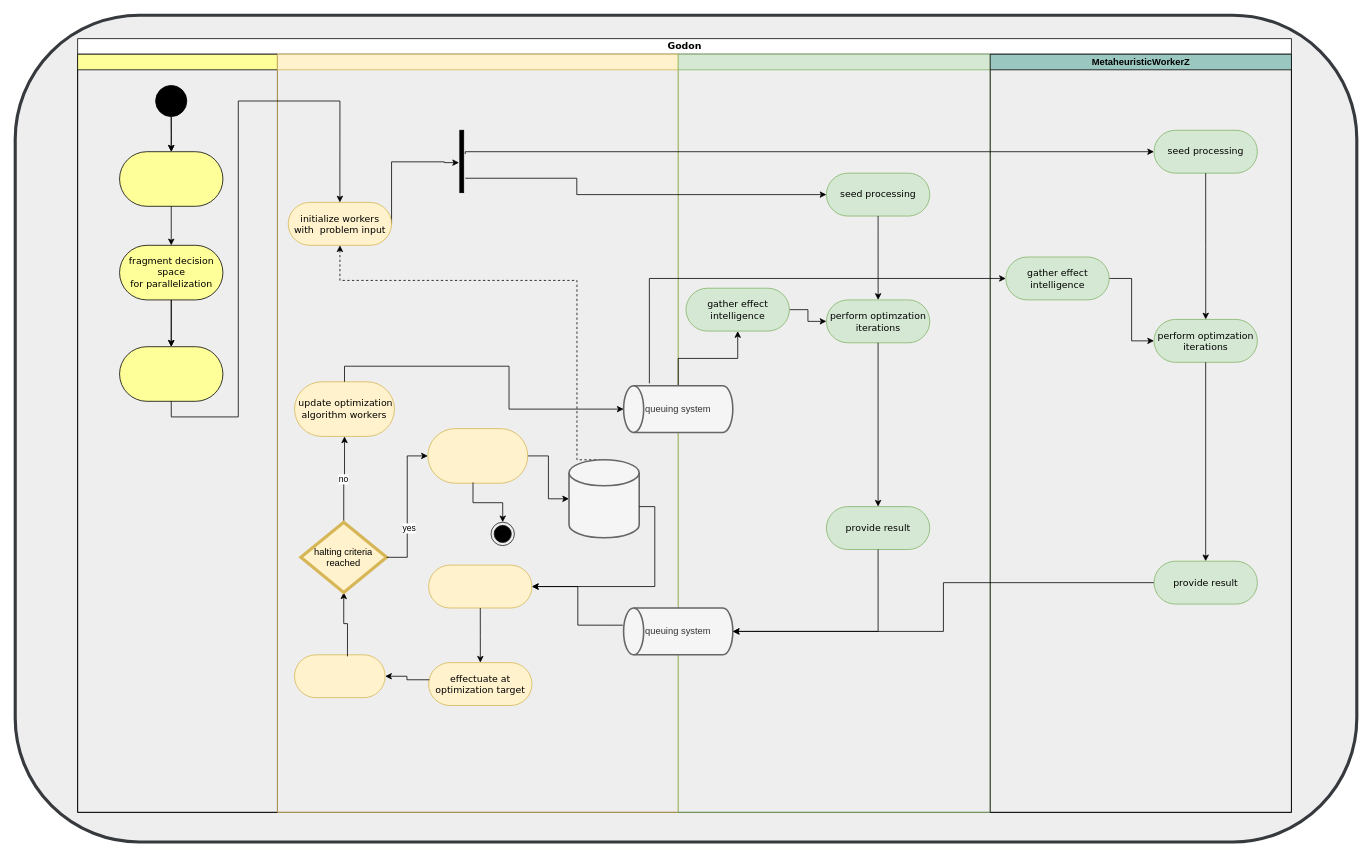
Some shapes in this 1371 by 856 pixel diagram are drawn without their labels. Each missing label, with the box of its shape:
archive: (568, 459, 640, 538)
Breeder DAG: (277, 53, 678, 812)
Controller: (77, 53, 277, 812)
interpret results and put into perspective: (428, 564, 532, 608)
MetaheuristicWorkerY: (677, 53, 990, 812)
parse request: (119, 151, 223, 206)
probe optimization target: (294, 654, 385, 698)
setup and configure breeder DAGs: (119, 346, 223, 401)
update shared knowledge base and cease processing: (427, 428, 528, 483)
